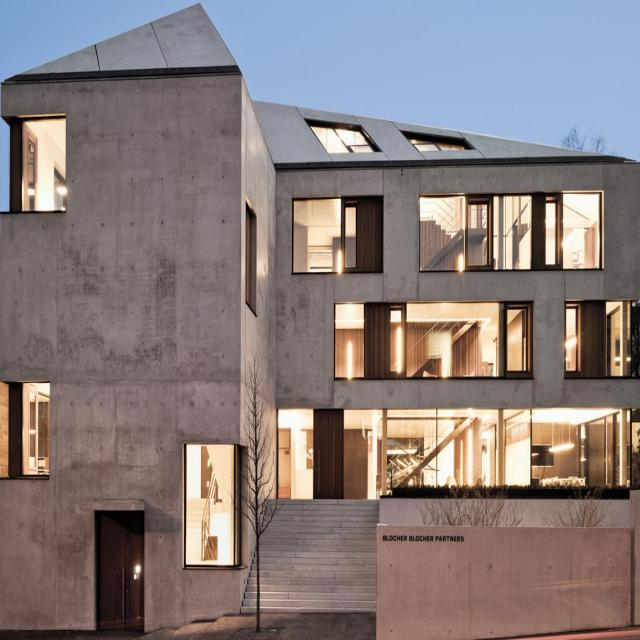door: (96, 515, 146, 636)
window: (343, 409, 622, 499), (409, 301, 500, 377), (185, 441, 239, 565), (21, 118, 63, 210), (420, 194, 466, 271), (293, 199, 339, 274), (275, 411, 313, 501), (563, 193, 603, 271), (492, 197, 532, 271), (21, 381, 51, 475), (335, 302, 366, 382), (608, 299, 640, 375), (311, 121, 374, 153), (505, 308, 533, 372), (542, 193, 558, 271), (389, 305, 404, 378), (344, 206, 359, 270), (410, 135, 467, 150), (568, 307, 579, 371)
